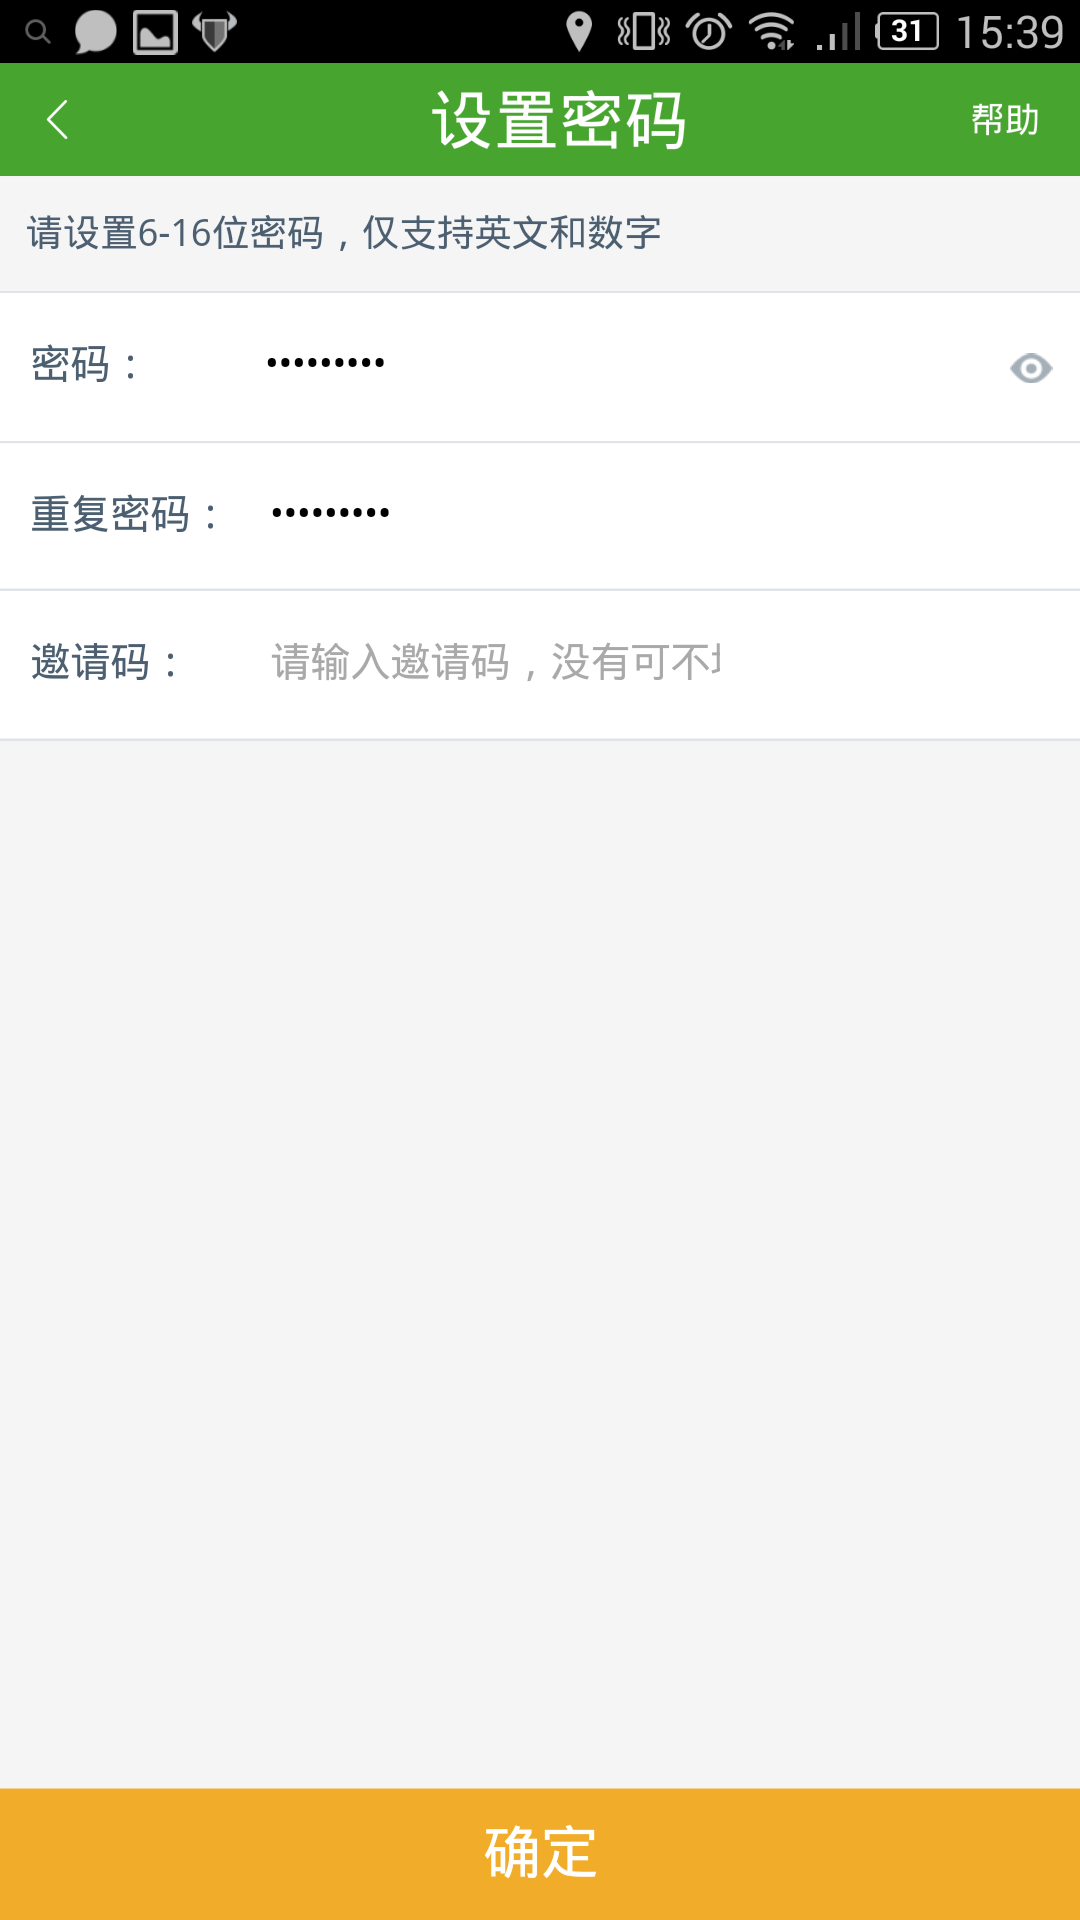button: (1, 1776, 1080, 1920)
textview: (4, 171, 1080, 758)
